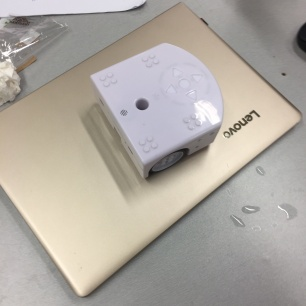thymio: (87, 41, 227, 179)
